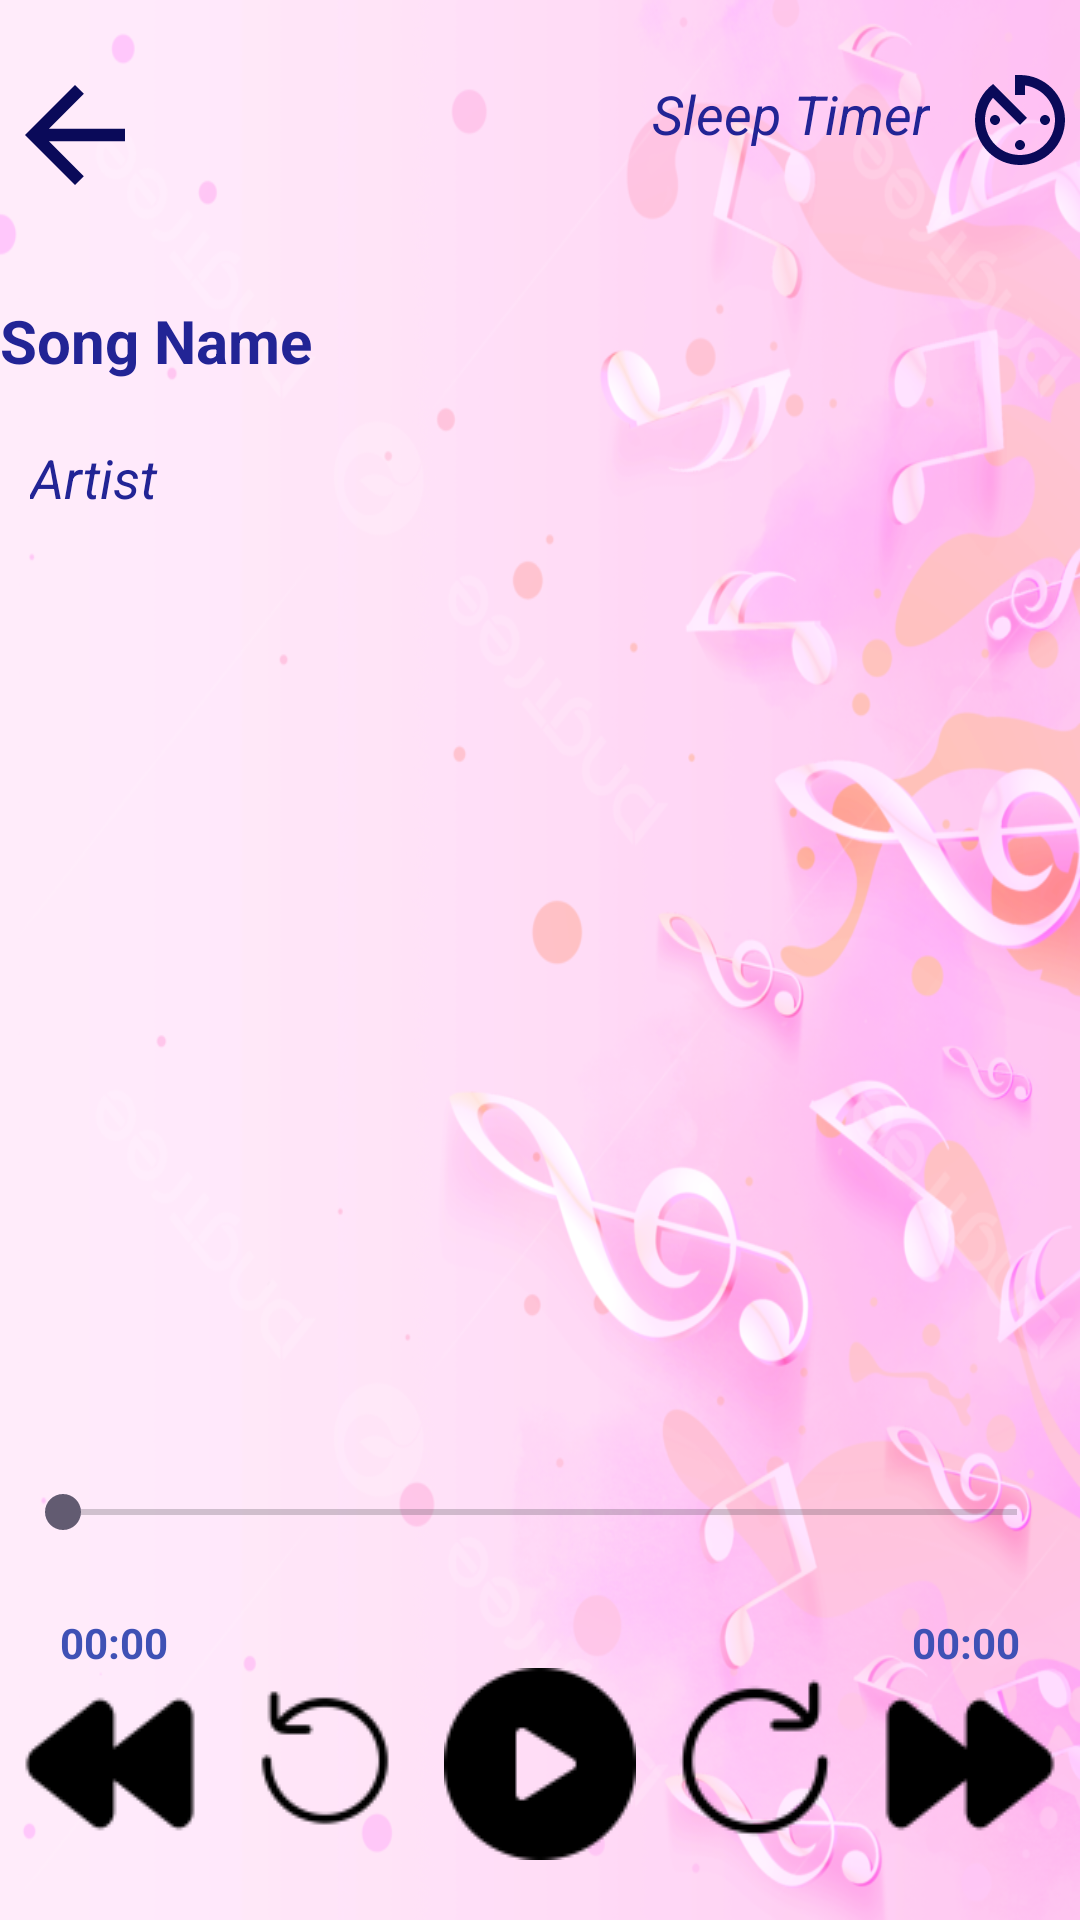

Icon click points for this 1080px x 1920px phone screenshot, format (x,y):
arrow back: (75,135)
av timer: (1020,127)
backward: (326,1769), (109,1767)
forward: (754,1758), (969,1751)
playbtn: (540,1764)
